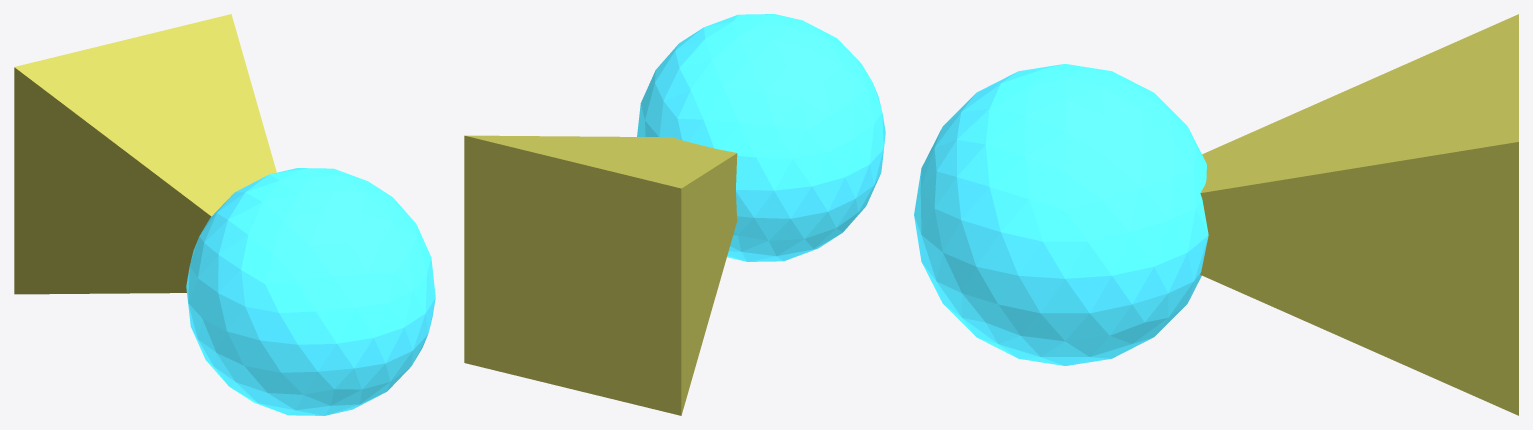
The model's file is est_model.fbx.
3 renders of one model, left to right at view 1: azimuth 30°, elevation 25°; view 2: azimuth 150°, elevation 25°; view 3: azimuth 270°, elevation 25°, orthographic. The views are drawn at different scales.
Visible parts, largest first — view 1: Cube, Icosphere; view 2: Cube, Icosphere; view 3: Cube, Icosphere.
Part boxes in pixels (x1,y1,x2,y2): Cube: [14, 14, 276, 294]; Icosphere: [186, 168, 435, 415]; Cube: [464, 135, 737, 415]; Icosphere: [637, 14, 885, 261]; Cube: [1200, 14, 1518, 415]; Icosphere: [914, 64, 1208, 365].
Bounding box in the file's own units: 20 × 20 × 40.
